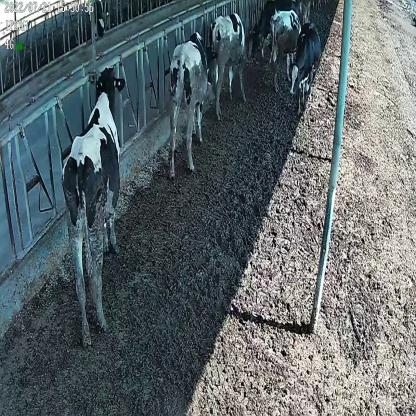cow: (62, 64, 126, 345), (167, 30, 219, 180), (210, 10, 247, 119), (289, 22, 320, 116), (270, 8, 303, 90)
